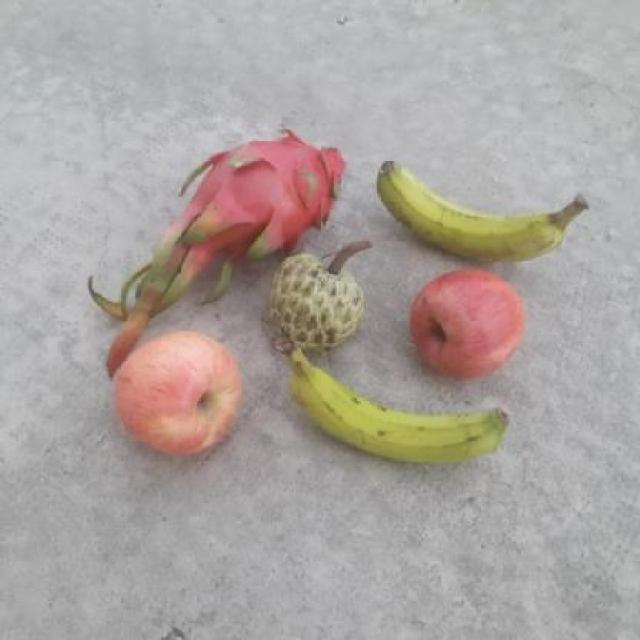apple: (111, 331, 237, 451), (407, 269, 527, 376)
banana: (290, 366, 515, 465), (369, 159, 562, 272)
dragon fruit: (170, 122, 338, 253)
sugar apple: (268, 251, 362, 351)
